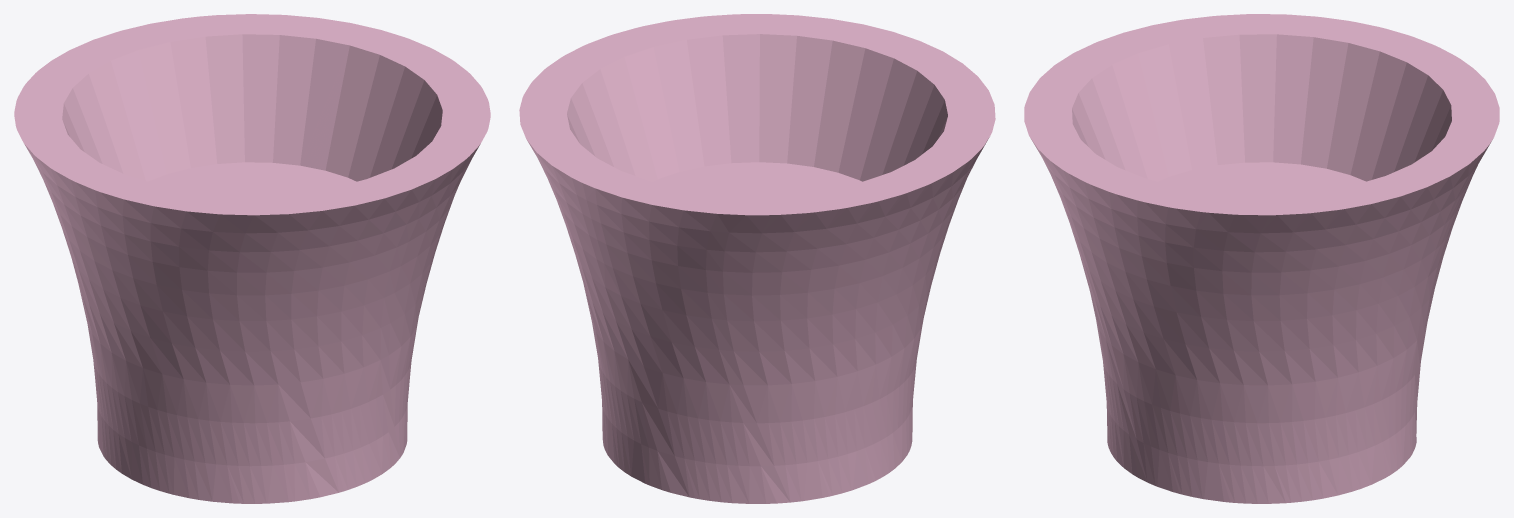
Rendered from Cup.dae.
3 views of the same model, side by side, from view 1: azimuth 30°, elevation 25°; view 2: azimuth 150°, elevation 25°; view 3: azimuth 270°, elevation 25° (orthographic).
Visible parts, largest first — view 1: Cup; view 2: Cup; view 3: Cup.
Boxes of the visible parts, box(x1,y1,x2,y2) form: Cup: box(14, 14, 490, 503); Cup: box(519, 14, 995, 503); Cup: box(1024, 14, 1499, 503).
Bounding box in the file's own units: 0.02 × 0.02 × 0.015.
